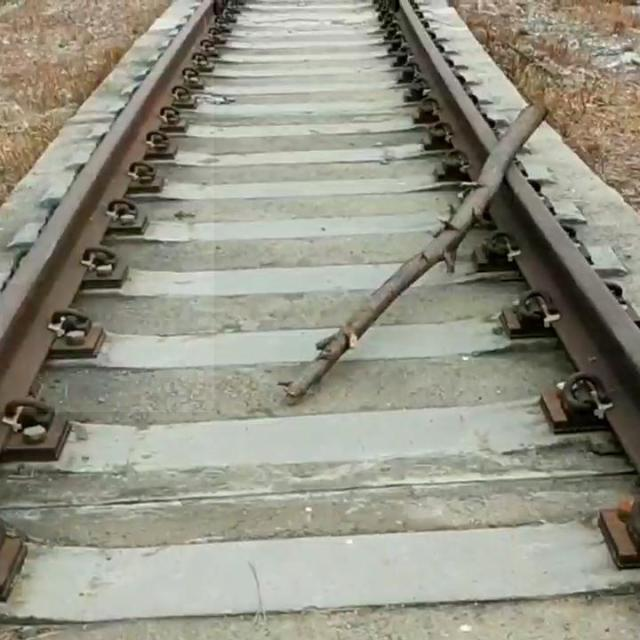rail: (2, 1, 215, 413), (495, 166, 640, 474), (402, 1, 498, 172)
